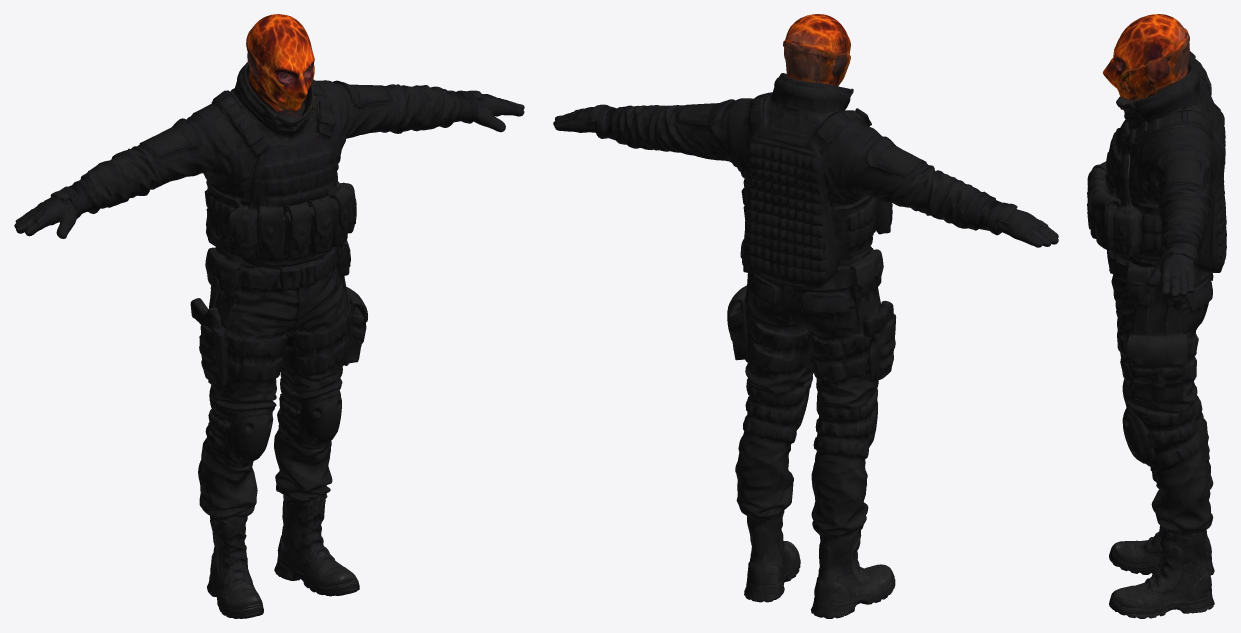
Rendered from molotov7.glb.
3 renders of one model, left to right at view 1: azimuth 30°, elevation 25°; view 2: azimuth 150°, elevation 25°; view 3: azimuth 270°, elevation 25°, orthographic.
Parts seen in each view (by area): view 1: mesh_node; view 2: mesh_node; view 3: mesh_node.
Boxes of the visible parts, left/top/right/bottom form: mesh_node: left=14, top=14, right=524, bottom=618; mesh_node: left=553, top=14, right=1058, bottom=618; mesh_node: left=1087, top=14, right=1226, bottom=618.
Size of the model in its own units: 1.74 by 1.9 by 0.4196.
1 material, 1 textured.
